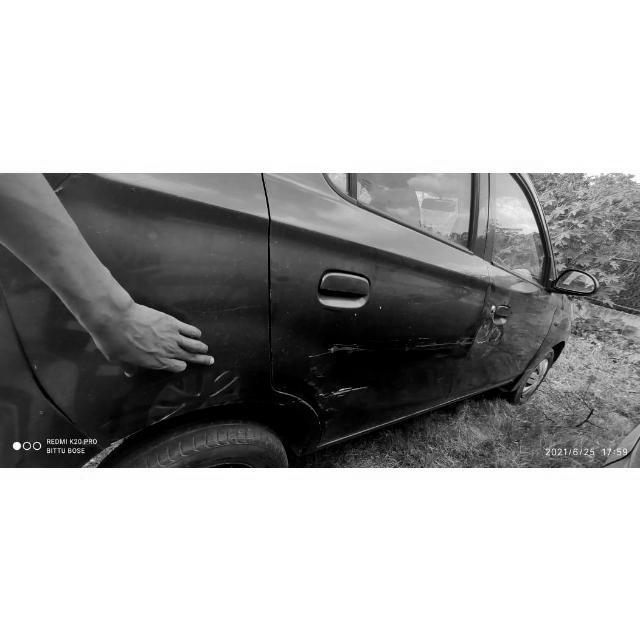doorouter-dent: (278, 258, 484, 417)
quaterpanel-dent: (57, 185, 267, 448)
